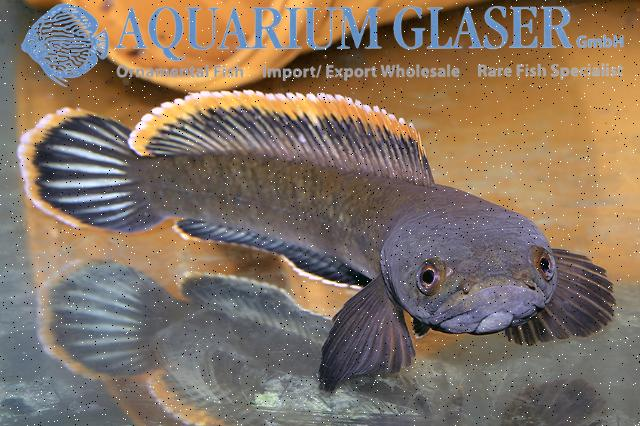Sirip Anal: (172, 213, 374, 293)
Sirip Dada: (502, 237, 624, 356), (320, 275, 416, 392)
Sirip Ekor: (19, 106, 168, 235)
Sirip Perut: (410, 312, 434, 344)
Sirip Punggung: (127, 90, 436, 185)
